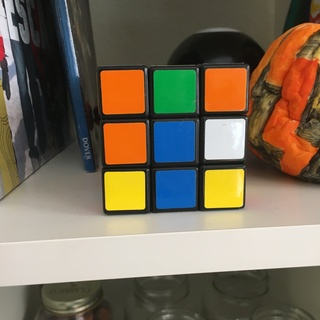face: (99, 66, 245, 213)
